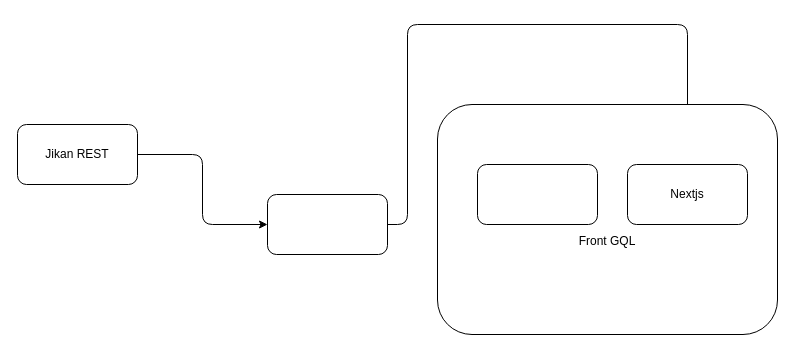
Image size: 795x352. Some labels were removed from this diagram. The shapes that lost their labels are listed below. From the top down, each one's centre as x and y in pixels, then its label:
At point 537,194: "React".
At point 327,224: "Backend GQL".
